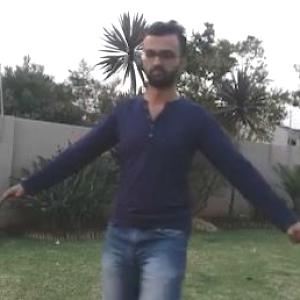land: (71, 87, 230, 283)
